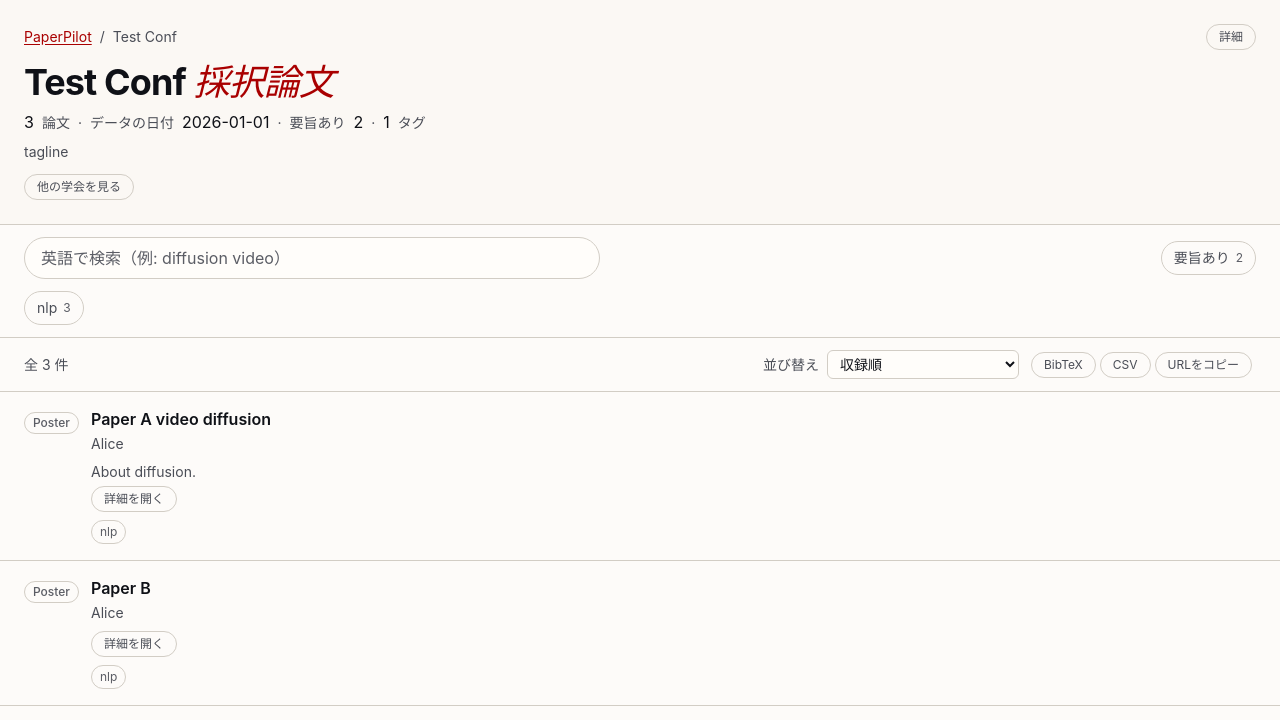
CatalogApp UX audit (design doc 53) › explains a Japanese query that matches nothing
expect the text "Paper B" is shown: met, box left=91, top=578, right=151, bottom=598
Type "拡散モデル" into the search field with id "search" at coordinates (312, 258), box left=24, top=237, right=600, bottom=279
Wait 300 ms
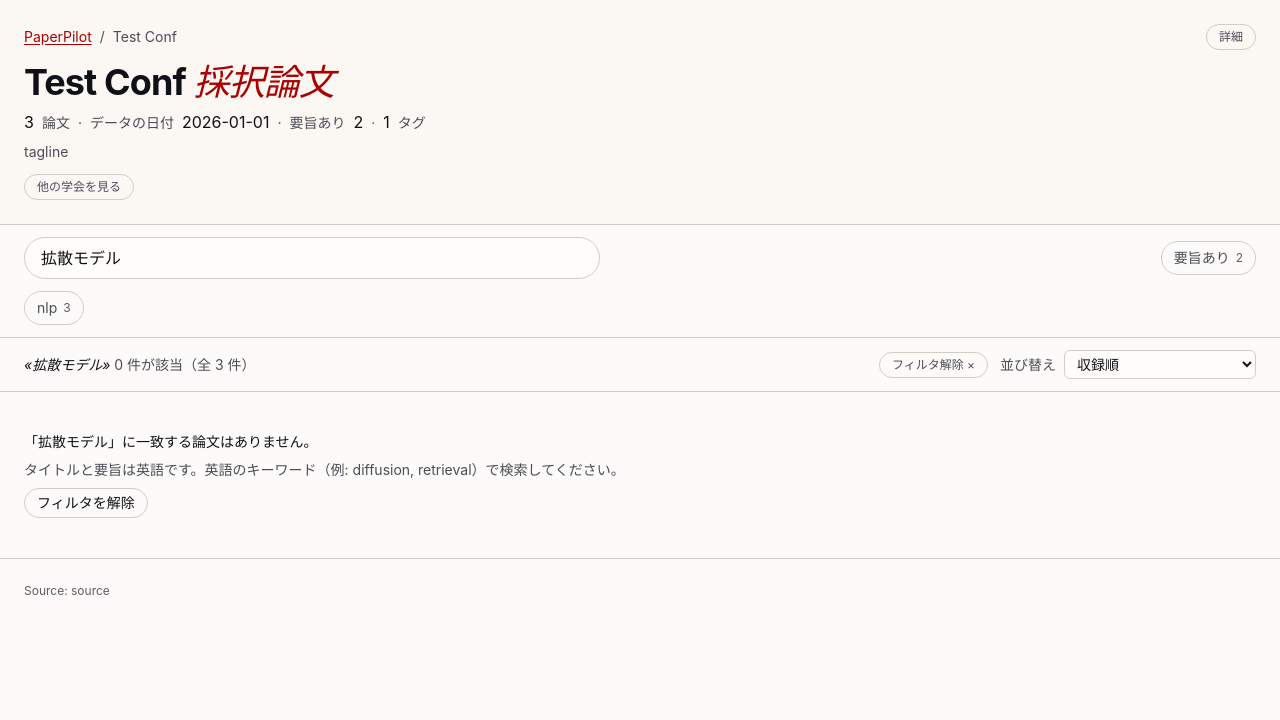
expect the text "「拡散モデル」に一致する論文はありません。" is shown: met, box left=24, top=432, right=318, bottom=452
expect the text "タイトルと要旨は英語です。英語のキーワード（例: diffusion, retrieval）で検索してください。" is shown: met, box left=24, top=460, right=625, bottom=480
